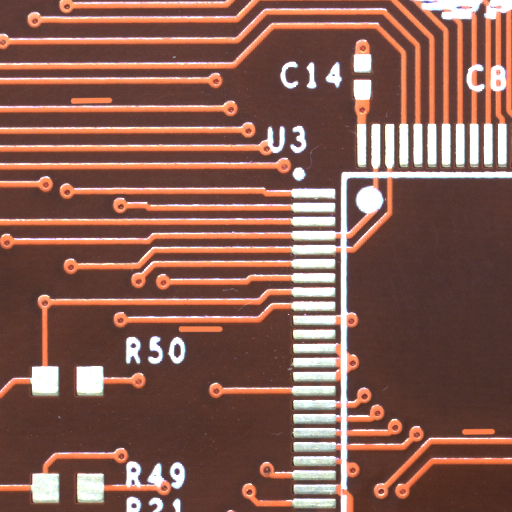Spurious_copper: (199, 328, 250, 337), (91, 100, 136, 110), (478, 431, 511, 442)
